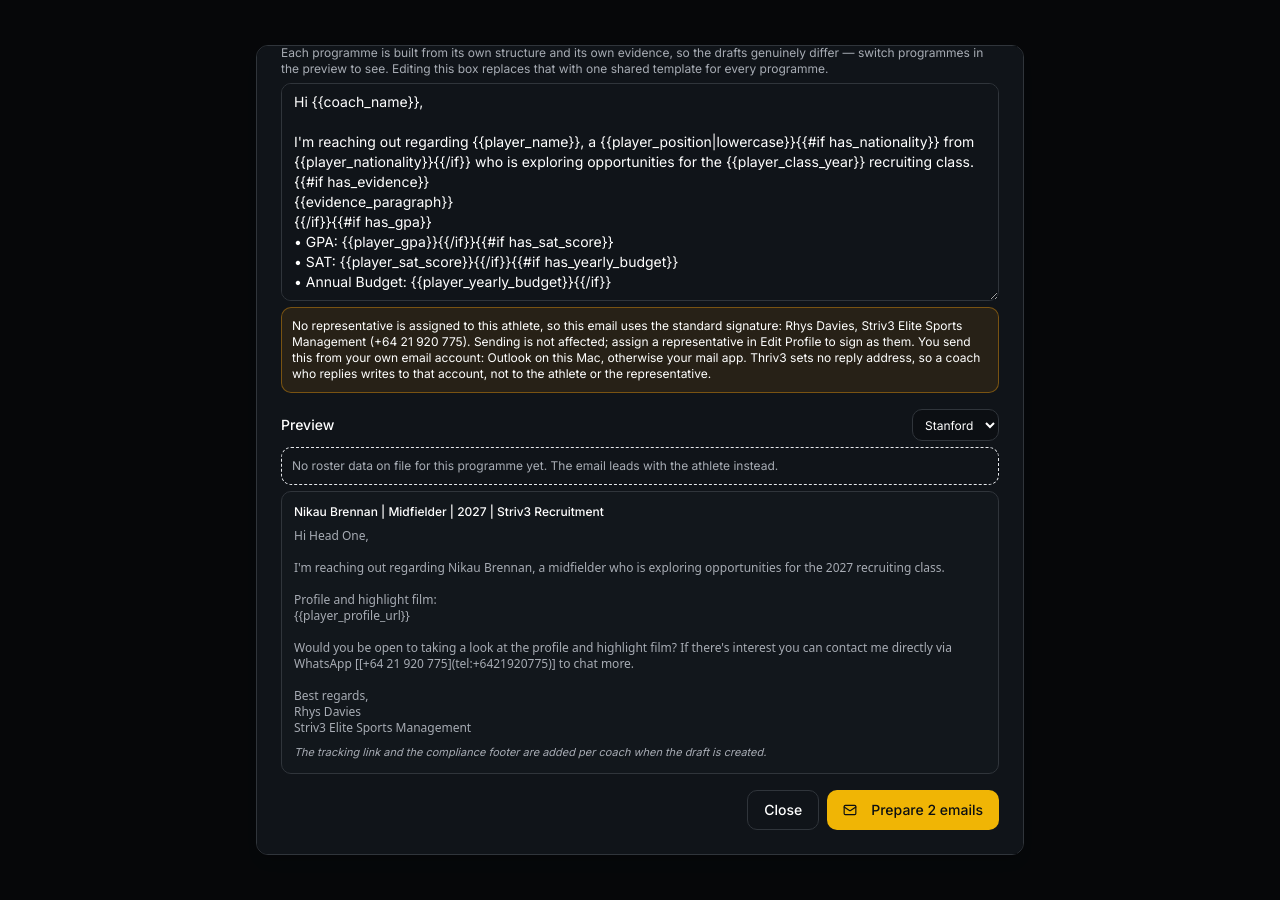
Test: a hosted run, where the server prepared the emails › shows one handoff row per prepared coach
This screenshot has width=1280, height=900.
(page scrolled)
What coordinates should you click on to do the following:
click the button "Prepare 2 emails"
I would click on:
 (913, 810)
Its box is [827,790,999,830].
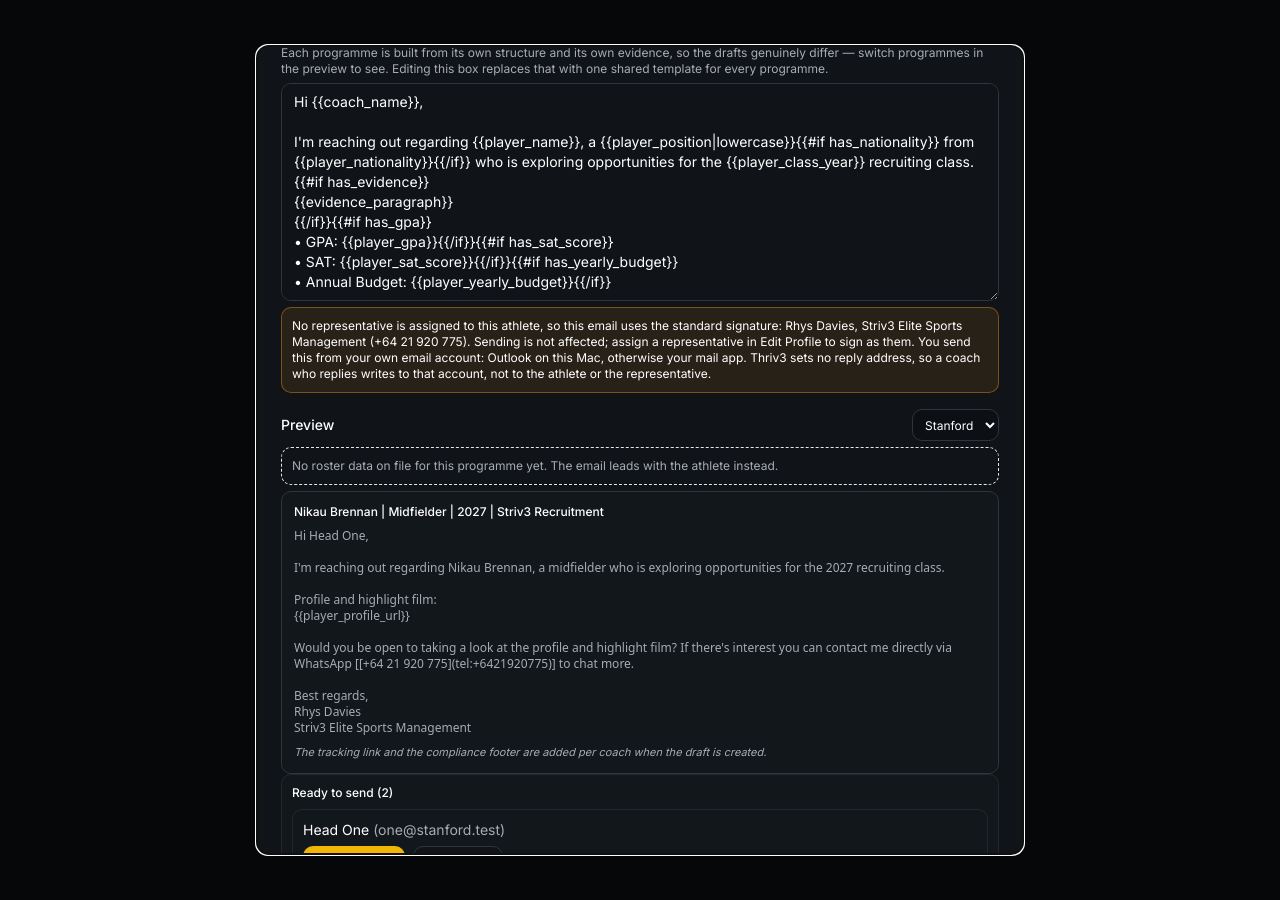
Expected: the text "one@stanford.test" is shown, [378,820,500,838]
